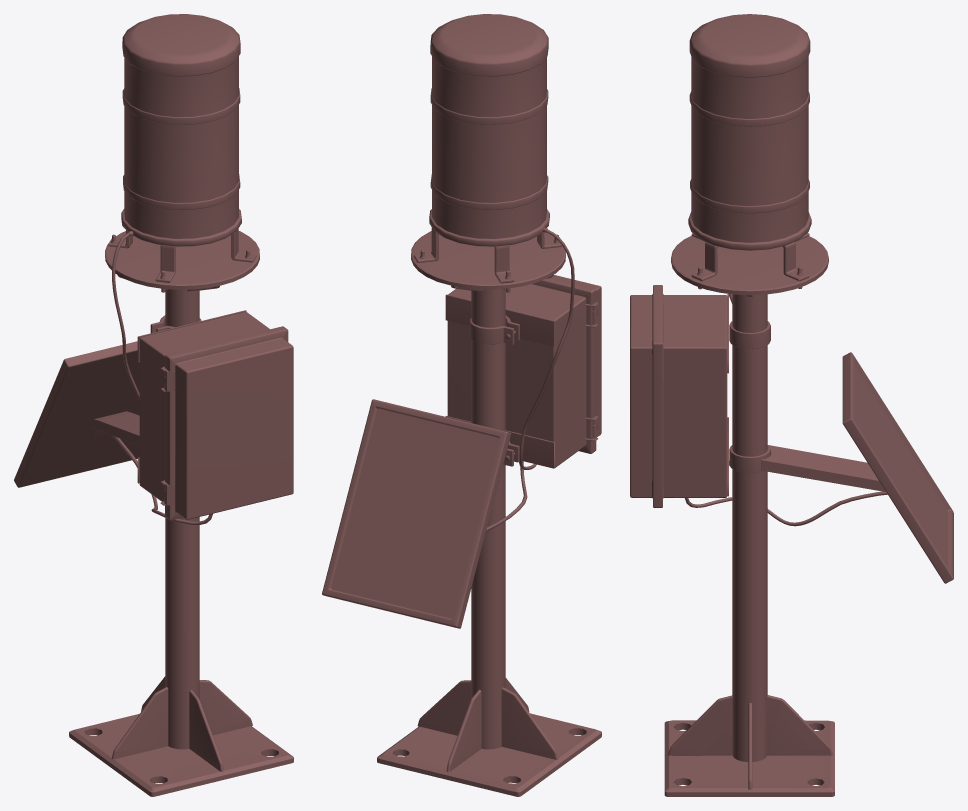
3 views of the same model, side by side, from view 1: azimuth 30°, elevation 25°; view 2: azimuth 150°, elevation 25°; view 3: azimuth 270°, elevation 25° (orthographic).
Parts seen in each view (by area): view 1: a1_low, a2_low, a3_low, a4_low2; view 2: a1_low, a2_low, a3_low, a4_low2; view 3: a1_low, a2_low, a3_low, a4_low2.
Part boxes in pixels (x1,y1,x2,y2): a1_low: (14,14,293,796); a2_low: (105,231,259,749); a3_low: (87,228,256,771); a4_low2: (111,231,251,525); a1_low: (322,14,601,796); a2_low: (411,231,598,749); a3_low: (413,228,597,771); a4_low2: (419,227,598,531); a1_low: (630,14,953,796); a2_low: (671,235,828,761); a3_low: (668,233,885,789); a4_low2: (685,267,887,526).
Bounding box in the file's own units: 0.3945 × 1.81 × 0.7321.
